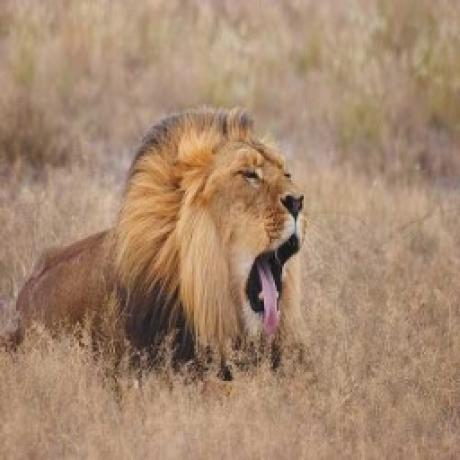Lion: (11, 111, 314, 378)
